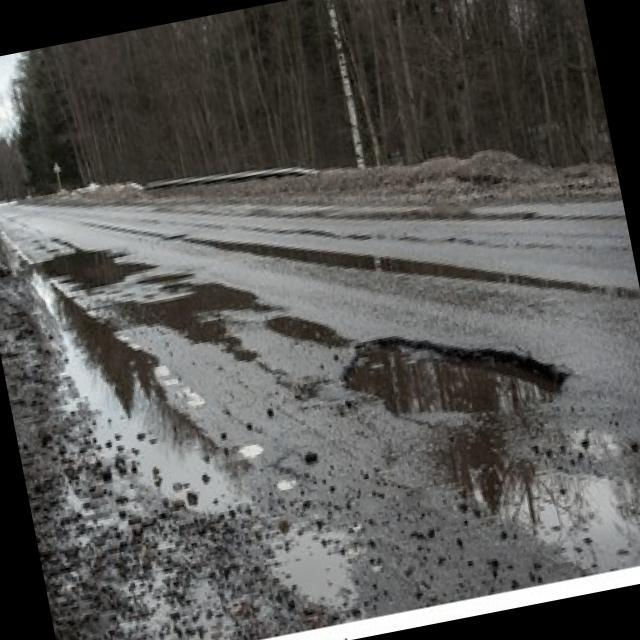Pothole: (334, 302, 575, 441)
